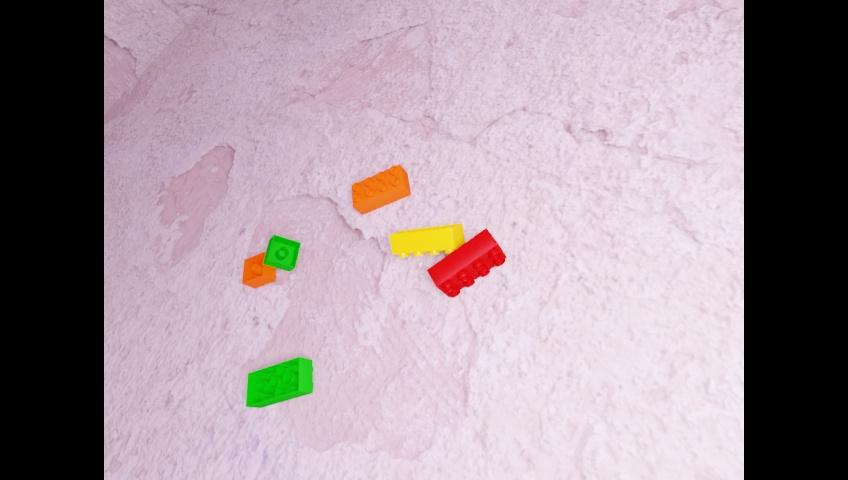2x2_green: (262, 234, 300, 271)
2x2_orange: (241, 251, 275, 288)
4x2_green: (245, 356, 312, 407)
4x2_orange: (351, 163, 410, 214)
4x2_red: (426, 227, 506, 297)
4x2_yellow: (389, 222, 464, 257)
